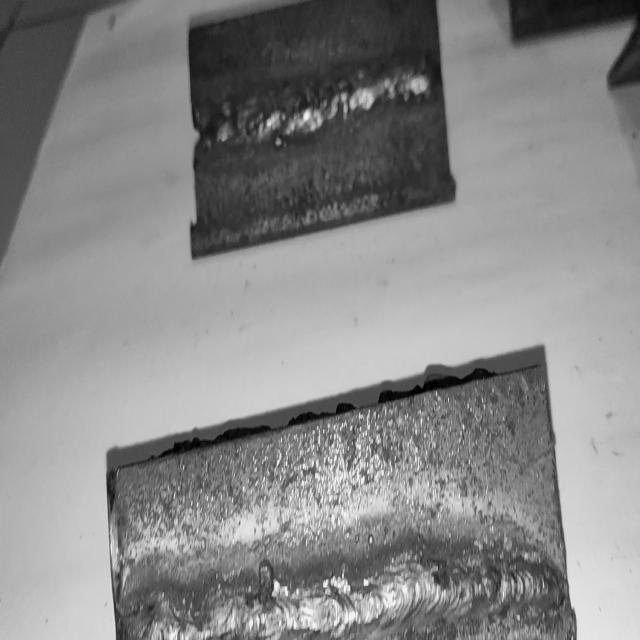Welding Line: (119, 546, 572, 640), (206, 54, 434, 148)
Workpiece: (105, 350, 586, 640), (189, 0, 460, 248)
